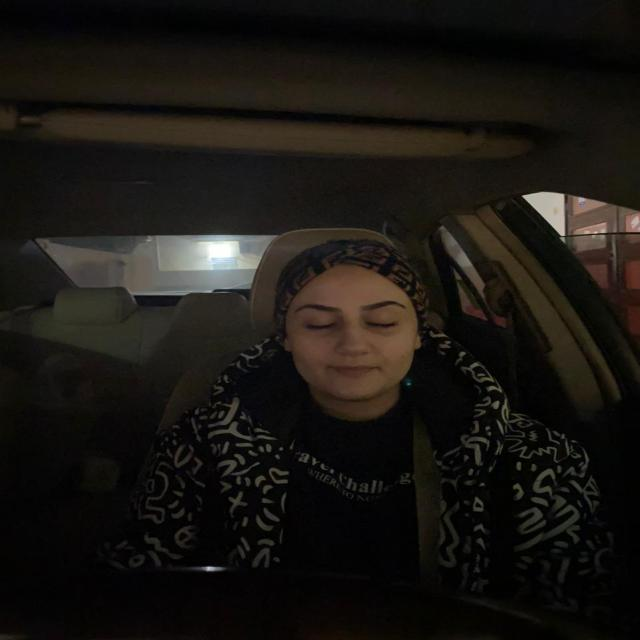drowsy: (267, 235, 434, 404)
